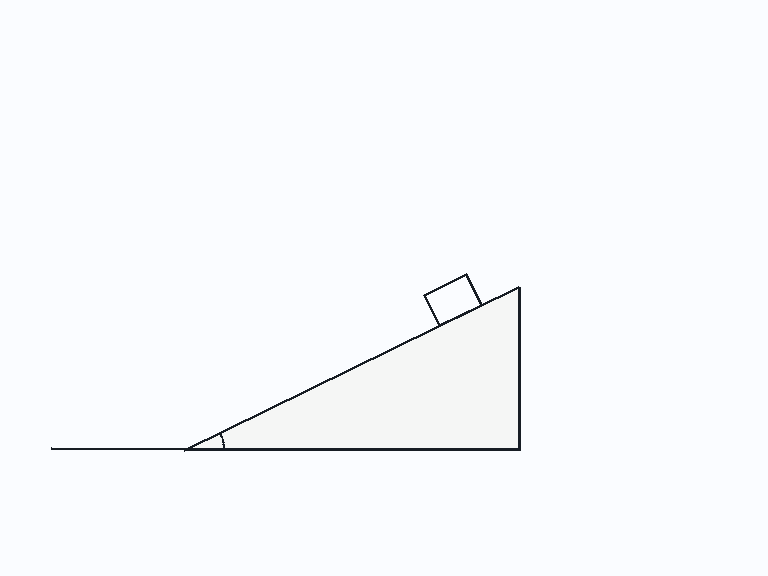block: (423, 272, 483, 327)
ramp: (182, 284, 521, 452)
